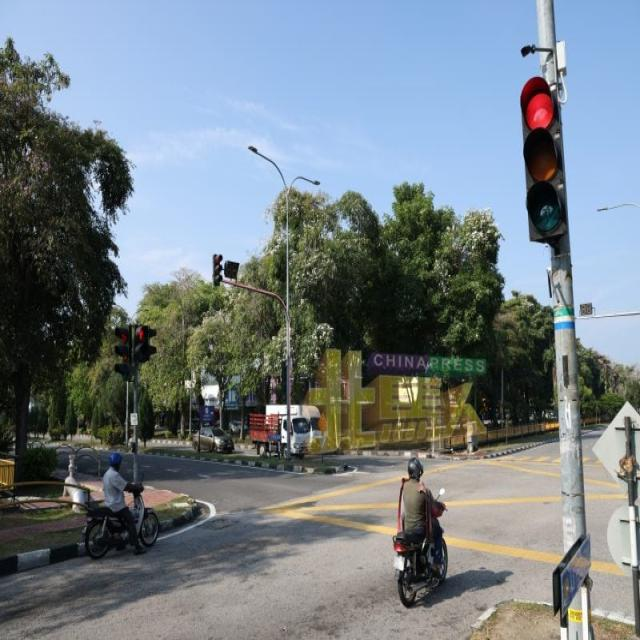red light: (521, 74, 569, 241), (116, 323, 132, 386)
